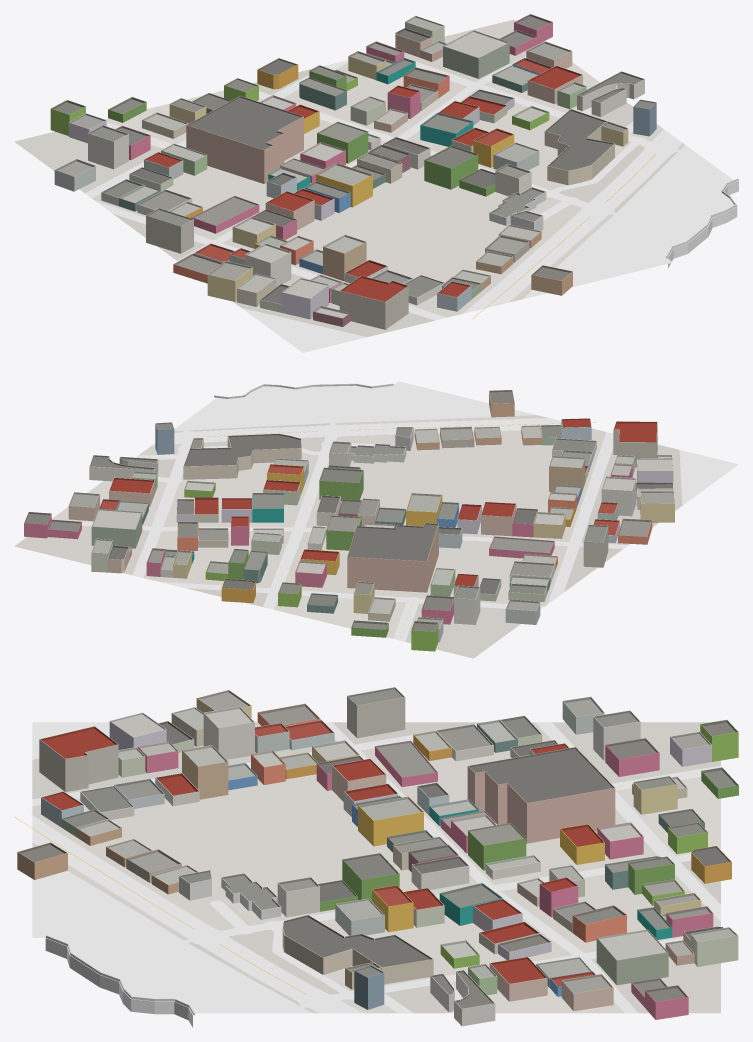
3 views of the same model, one above another, from view 1: azimuth 30°, elevation 25°; view 2: azimuth 150°, elevation 25°; view 3: azimuth 270°, elevation 25° (orthographic). The views are drawn at different scales.
Visible parts, largest first — view 1: walls, roofs, ground, asphalt, concrete, grass, coast; view 2: roofs, ground, walls, asphalt, concrete, grass, stone; view 3: walls, roofs, ground, asphalt, concrete, coast, grass, markings, stone.
Part boxes in pixels (x1,y1,x2,y2): walls: (50,22,656,329); roofs: (51,14,655,318); ground: (14,19,684,336); asphalt: (85,56,682,340); concrete: (523,145,736,298); grass: (254,317,353,352); coast: (668,181,738,268); roofs: (24,390,674,631); ground: (14,415,682,658); walls: (24,392,674,651); asphalt: (55,418,693,641); concrete: (174,381,535,431); grass: (691,453,738,496); stone: (214,383,393,398); walls: (17,696,738,1026); roofs: (18,687,738,1008); ground: (32,722,720,1013); asphalt: (32,722,720,1013); concrete: (32,871,311,1013); coast: (45,938,192,1027); grass: (32,722,109,752); markings: (15,773,696,1010); stone: (46,935,194,1015).
Size of what is drawn, in the model's own units: 269 by 21.15 by 263.
